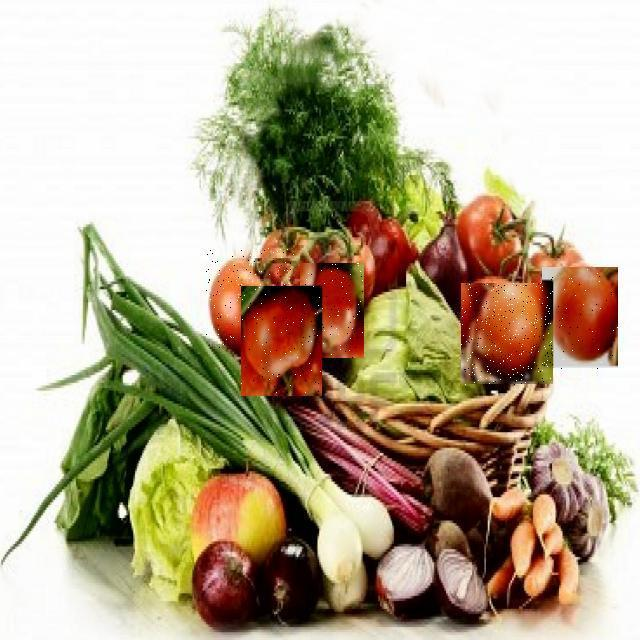Tomatoes: (461, 284, 553, 386), (207, 248, 295, 352), (241, 286, 322, 396), (542, 268, 618, 370), (300, 263, 364, 358)
